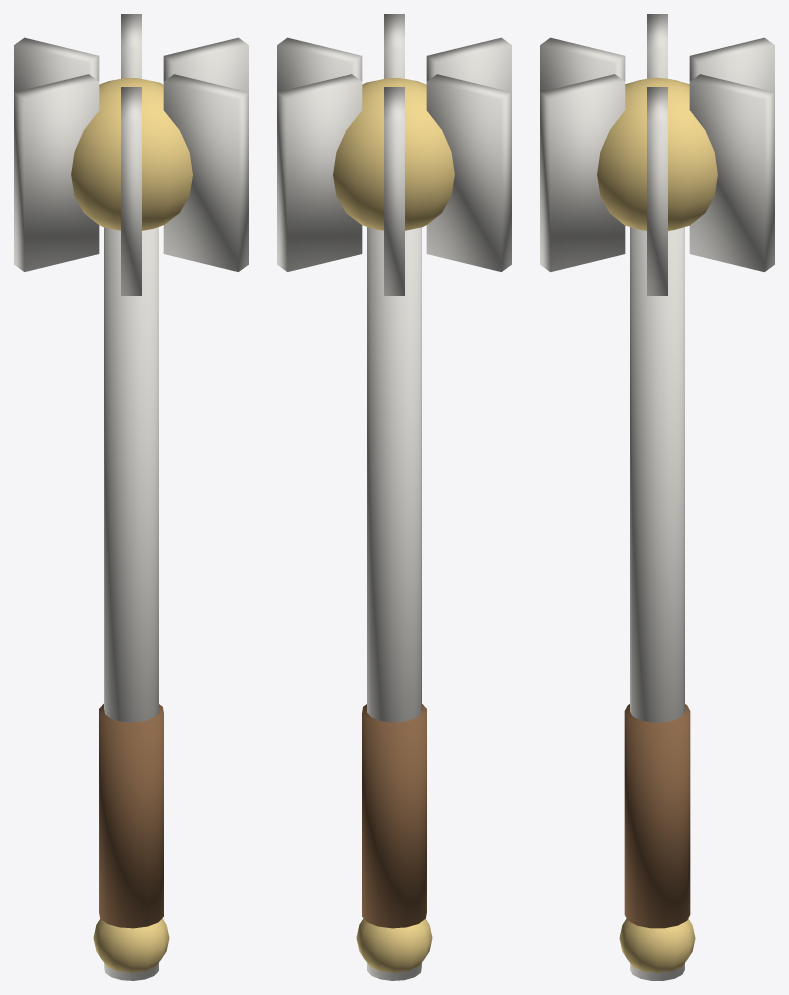
File: mace.glb
The picture shows the model from 3 angles, left to right: view 1: azimuth 30°, elevation 25°; view 2: azimuth 150°, elevation 25°; view 3: azimuth 270°, elevation 25°; orthographic projection.
Parts seen in each view (by area): view 1: Mace; view 2: Mace; view 3: Mace.
Boxes of the visible parts, left/top/right/bottom form: Mace: left=14, top=14, right=248, bottom=980; Mace: left=277, top=14, right=511, bottom=980; Mace: left=540, top=14, right=774, bottom=980.
Bounding box in the file's own units: 0.15 × 0.577 × 0.1359.
